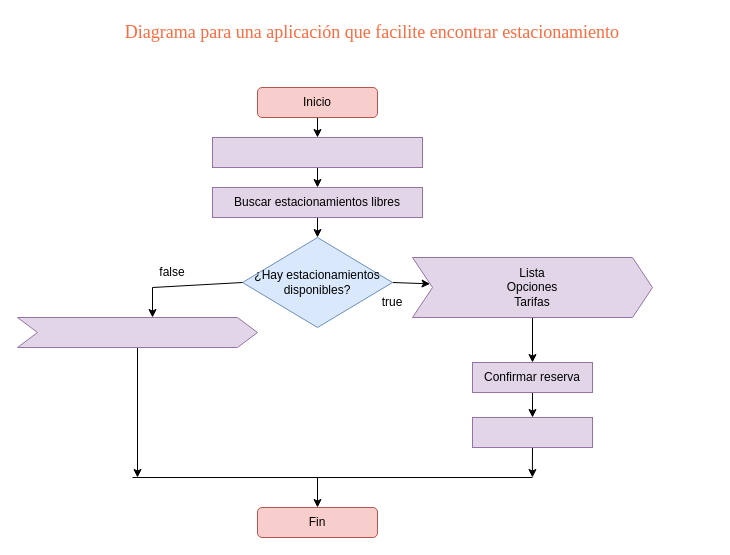
The diagram is 730 pixels wide and 555 high, and some of its shapes have lost their labels. The centre of each missing label's shape, as x and y in pixels:
"No hay disponibilidad en esta area": [137,332]
Autorizar acceso a GPS: [317,152]
Procesar pago: [532,432]
